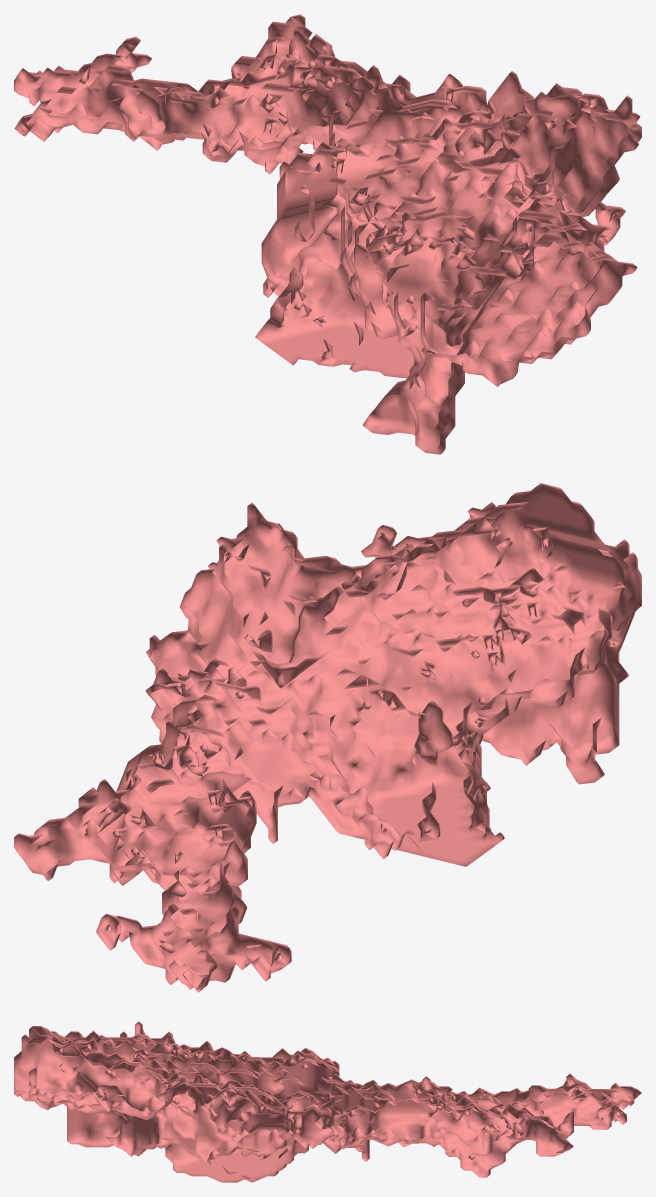
Rendered from osteocyte_3.glb.
3 views of the same model, one above another, from view 1: azimuth 30°, elevation 25°; view 2: azimuth 150°, elevation 25°; view 3: azimuth 270°, elevation 25° (orthographic). The views are drawn at different scales.
Visible parts, largest first — view 1: osteocyte_3; view 2: osteocyte_3; view 3: osteocyte_3.
Boxes of the visible parts, x1,y1,x2,y2 form: osteocyte_3: [14, 14, 641, 454]; osteocyte_3: [14, 483, 641, 992]; osteocyte_3: [14, 1021, 641, 1182].
Size of the model in its own units: 17.33 by 11.07 by 39.96.
